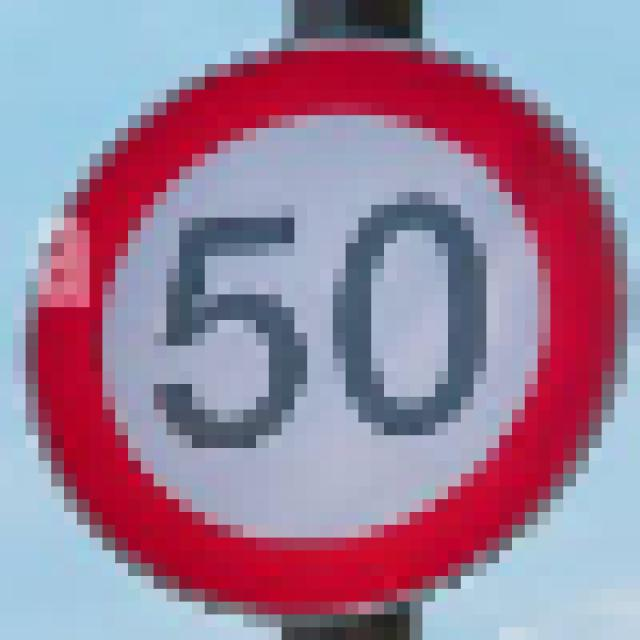Limite-50: (26, 34, 624, 620)
